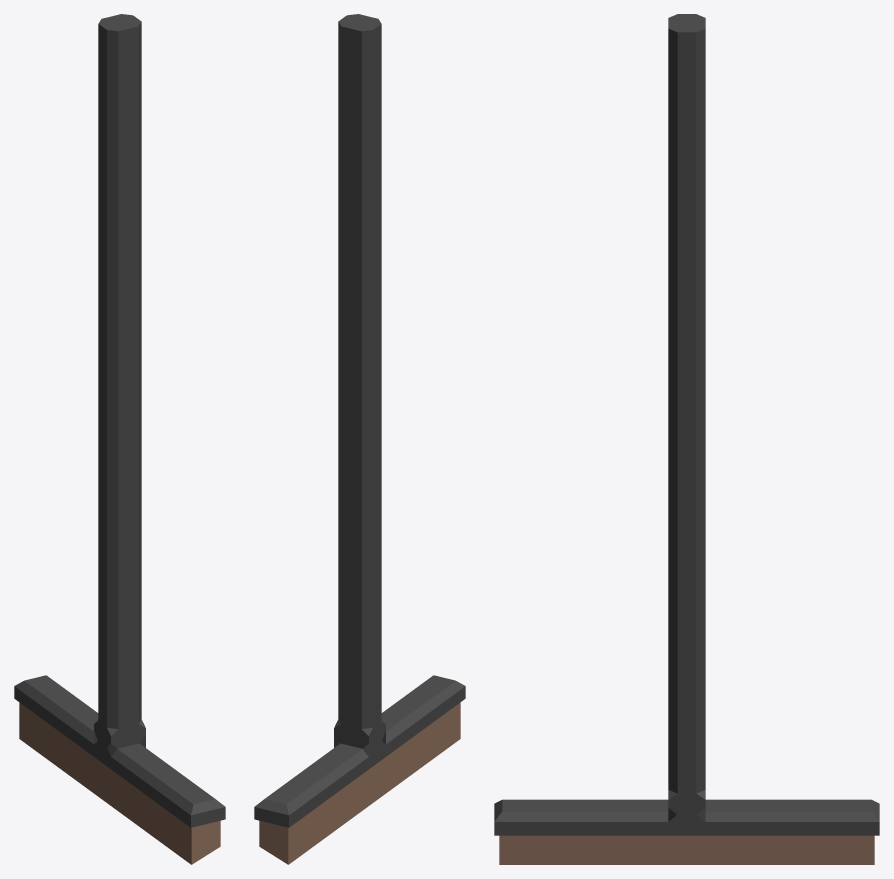
The model's file is SM_Broom.fbx.
3 renders of one model, left to right at view 1: azimuth 30°, elevation 25°; view 2: azimuth 150°, elevation 25°; view 3: azimuth 270°, elevation 25°, orthographic. The views are drawn at different scales.
Visible parts, largest first — view 1: SM_Broom; view 2: SM_Broom; view 3: SM_Broom.
Part boxes in pixels (x1=…): SM_Broom: x1=14, y1=14, x2=225, y2=864; SM_Broom: x1=254, y1=14, x2=465, y2=864; SM_Broom: x1=494, y1=14, x2=879, y2=864.
Bounding box in the file's own units: 16.2 × 346 × 143.
